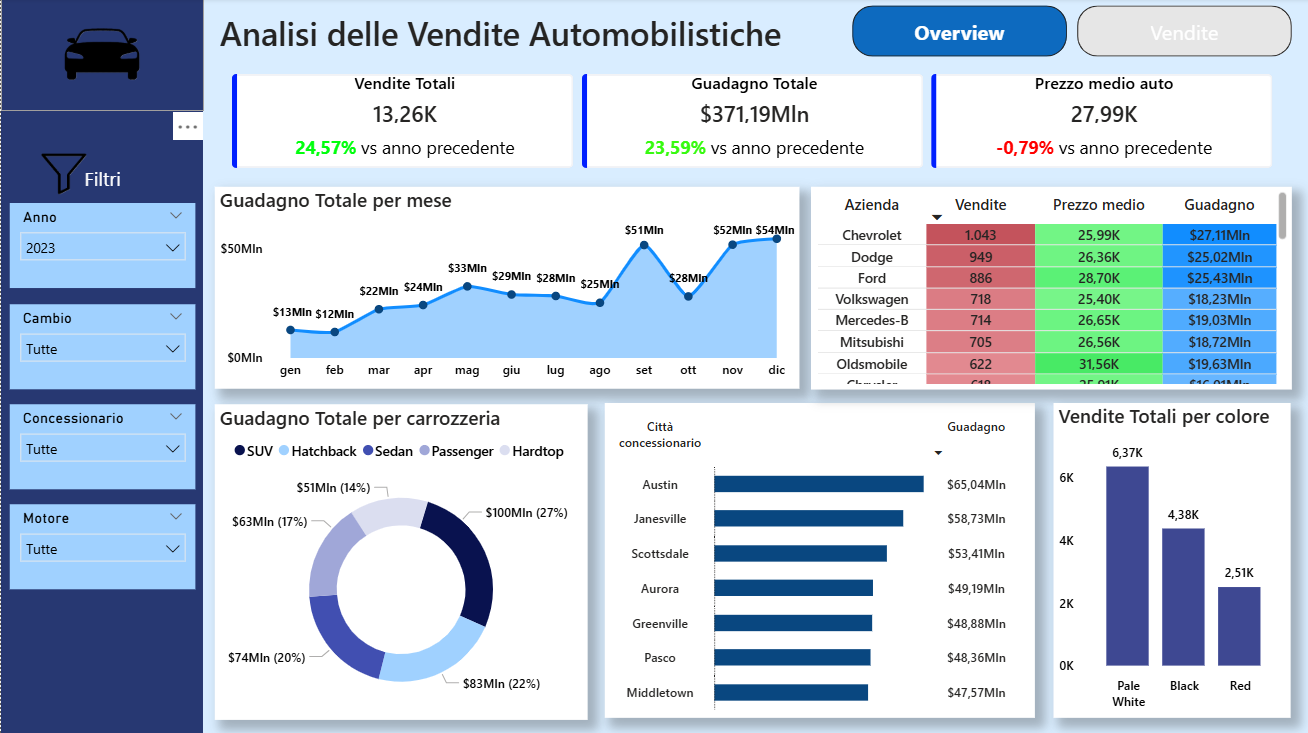

This screenshot's page, from the dashboard's own definition file:
{"tool":"powerbi","page":{"name":"Overview","canvas":[1280,720],"ordinal":0},"visuals":[{"type":"shape","box":[0,0,197.7,720.2],"z":0},{"type":"slicer","fields":{"Values":["Calendar.Anno"]},"box":[8,201,181.7,83.6],"z":1000},{"type":"cardVisual","fields":{"Data":["Misure.Vendite Totali","Misure.Guadagno Totale","Misure.Prezzo medio auto"]},"box":[209.2,57.7,1053.2,127],"z":2000},{"type":"areaChart","title":"Guadagno Totale per mese","fields":{"Category":["Calendar.Mese_short"],"Y":["Misure.Guadagno Totale"]},"box":[209,184.9,572.3,197.7],"z":3000},{"type":"donutChart","title":"Guadagno Totale per carrozzeria","fields":{"Category":["car_data.Body Style"],"Y":["Misure.Guadagno Totale"]},"box":[209,397.1,364.9,308.7],"z":4000},{"type":"tableEx","fields":{"Values":["car_data.Dealer_Region","Misure.Guadagno Totale Barre","Misure.Guadagno Totale"]},"box":[590.3,396.6,421,308.1],"z":5000},{"type":"tableEx","fields":{"Values":["car_data.Company","Misure.Vendite Totali","Misure.Prezzo medio auto","Misure.Guadagno Totale"]},"box":[792.4,184.6,470.8,198.1],"z":6000},{"type":"slicer","fields":{"Values":["car_data.Transmission"]},"box":[8,299,181.7,83.6],"z":7000},{"type":"slicer","fields":{"Values":["car_data.Dealer_Name"]},"box":[8,397.1,181.7,83.6],"z":8000},{"type":"slicer","fields":{"Values":["car_data.Engine"]},"box":[8,495.2,181.7,83.6],"z":9000},{"type":"columnChart","title":"Vendite Totali per colore","fields":{"Category":["car_data.Color"],"Y":["Misure.Vendite Totali"]},"box":[1029.6,396.6,231.8,308.1],"z":10000},{"type":"pageNavigator","box":[832.8,7.6,430.1,50.3],"z":11000},{"type":"textbox","box":[209.2,7.2,606,60.6],"z":11001},{"type":"textbox","box":[64.9,158.7,69.3,34.6],"z":11002},{"type":"image","box":[0,0,197.7,109.6],"z":11003},{"type":"image","box":[36.1,150,51.9,43.3],"z":11004}]}

Visuals, with their boxes in screenshot pixels (x1, y1, x2, y2), scaled from the page's 1280x720 canvas onto the 1308x733 screenshot:
shape: [0, 0, 202, 732]
slicer - Calendar.Anno: [8, 205, 194, 290]
cardVisual - Misure.Vendite Totali x Misure.Guadagno Totale: [214, 59, 1290, 188]
"Guadagno Totale per mese" areaChart: [214, 188, 798, 390]
"Guadagno Totale per carrozzeria" donutChart: [214, 404, 586, 719]
tableEx - car_data.Dealer_Region x Misure.Guadagno Totale Barre: [603, 404, 1033, 717]
tableEx - car_data.Company x Misure.Vendite Totali: [810, 188, 1291, 390]
slicer - car_data.Transmission: [8, 304, 194, 390]
slicer - car_data.Dealer_Name: [8, 404, 194, 489]
slicer - car_data.Engine: [8, 504, 194, 589]
"Vendite Totali per colore" columnChart: [1052, 404, 1289, 717]
pageNavigator: [851, 8, 1291, 59]
textbox: [214, 7, 833, 69]
textbox: [66, 162, 137, 197]
image: [0, 0, 202, 112]
image: [37, 153, 90, 197]
